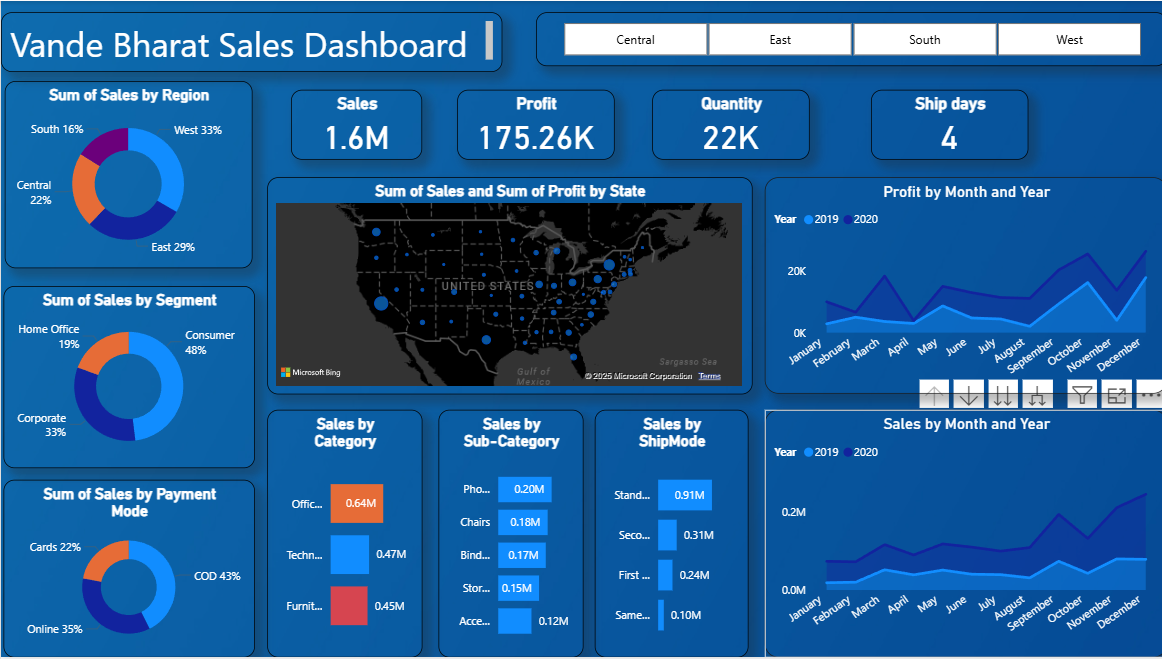

This screenshot's page, from the dashboard's own definition file:
{"tool":"powerbi","page":{"name":"Page 1","canvas":[1280,720],"ordinal":0},"visuals":[{"type":"clusteredBarChart","title":"Sales by Category","fields":{"Category":["Vande Bharat sales dataset.Category"],"Y":["Sum(Vande Bharat sales dataset.Sales)"]},"box":[292.3,448.7,170.2,271.7],"z":0},{"type":"clusteredBarChart","title":"Sales by Sub-Category","fields":{"Category":["Vande Bharat sales dataset.Sub-Category"],"Y":["Sum(Vande Bharat sales dataset.Sales)"]},"box":[480.3,448.7,159.2,271.7],"z":1000},{"type":"clusteredBarChart","title":"Sales by ShipMode","fields":{"Category":["Vande Bharat sales dataset.Ship Mode"],"Y":["Sum(Vande Bharat sales dataset.Sales)"]},"box":[651.8,448.7,168.8,271.7],"z":2000},{"type":"stackedAreaChart","title":"Sales by Month and  Year","fields":{"Y":["Sum(Vande Bharat sales dataset.Sales)"],"Category":["Vande Bharat sales dataset.Order Date.Variation.Date Hierarchy.Month","Vande Bharat sales dataset.Order Date.Variation.Date Hierarchy.Day"],"Series":["Vande Bharat sales dataset.Order Date.Variation.Date Hierarchy.Year"]},"box":[838.4,448.7,441.9,271.7],"z":3000},{"type":"stackedAreaChart","title":"Profit by Month and  Year","fields":{"Category":["Vande Bharat sales dataset.Order Date.Variation.Date Hierarchy.Month","Vande Bharat sales dataset.Order Date.Variation.Date Hierarchy.Day"],"Series":["Vande Bharat sales dataset.Order Date.Variation.Date Hierarchy.Year"],"Y":["Sum(Vande Bharat sales dataset.Profit)"]},"box":[838.4,193.5,441.9,237.4],"z":4000},{"type":"map","fields":{"Category":["Vande Bharat sales dataset.State"],"Size":["Sum(Vande Bharat sales dataset.Sales)"]},"box":[292.3,193.5,532.4,238.8],"z":5000},{"type":"donutChart","fields":{"Category":["Vande Bharat sales dataset.Segment"],"Y":["Sum(Vande Bharat sales dataset.Sales)"]},"box":[2.7,312.9,275.8,200.3],"z":6000},{"type":"donutChart","fields":{"Category":["Vande Bharat sales dataset.Payment Mode"],"Y":["Sum(Vande Bharat sales dataset.Sales)"]},"box":[2.7,525.6,275.8,194.9],"z":7000},{"type":"slicer","fields":{"Values":["Vande Bharat sales dataset.Region"]},"box":[587.3,12.3,693,59],"z":8000},{"type":"textbox","box":[0,12.3,550.3,65.9],"z":9000},{"type":"card","title":"Sales","fields":{"Values":["Sum(Vande Bharat sales dataset.Sales)"]},"box":[318.4,97.4,144.1,76.8],"z":10000},{"type":"card","title":"Profit","fields":{"Values":["Sum(Vande Bharat sales dataset.Profit)"]},"box":[500.9,97.4,172.9,76.8],"z":11000},{"type":"card","title":"Quantity","fields":{"Values":["Sum(Vande Bharat sales dataset.Quantity)"]},"box":[714.9,97.4,172.9,76.8],"z":12000},{"type":"card","title":"Ship days","fields":{"Values":["Avg(Vande Bharat sales dataset.Avg_delivery_days)"]},"box":[955.1,97.4,172.9,76.8],"z":13000},{"type":"donutChart","fields":{"Category":["Vande Bharat sales dataset.Region"],"Y":["Sum(Vande Bharat sales dataset.Sales)"]},"box":[4.1,87.8,271.7,205.8],"z":14000}]}

Visuals, with their boxes in screenshot pixels (x1, y1, x2, y2), scaled from the page's 1280x720 canvas onto the 1162x659 screenshot:
"Sales by Category" clusteredBarChart: <box>265,411,420,658</box>
"Sales by Sub-Category" clusteredBarChart: <box>436,411,581,658</box>
"Sales by ShipMode" clusteredBarChart: <box>592,411,745,658</box>
"Sales by Month and  Year" stackedAreaChart: <box>761,411,1161,658</box>
"Profit by Month and  Year" stackedAreaChart: <box>761,177,1161,394</box>
map - Vande Bharat sales dataset.State x Sum(Vande Bharat sales dataset.Sales): <box>265,177,749,396</box>
donutChart - Vande Bharat sales dataset.Segment x Sum(Vande Bharat sales dataset.Sales): <box>2,286,253,470</box>
donutChart - Vande Bharat sales dataset.Payment Mode x Sum(Vande Bharat sales dataset.Sales): <box>2,481,253,658</box>
slicer - Vande Bharat sales dataset.Region: <box>533,11,1161,65</box>
textbox: <box>0,11,500,72</box>
"Sales" card: <box>289,89,420,159</box>
"Profit" card: <box>455,89,612,159</box>
"Quantity" card: <box>649,89,806,159</box>
"Ship days" card: <box>867,89,1024,159</box>
donutChart - Vande Bharat sales dataset.Region x Sum(Vande Bharat sales dataset.Sales): <box>4,80,250,269</box>
